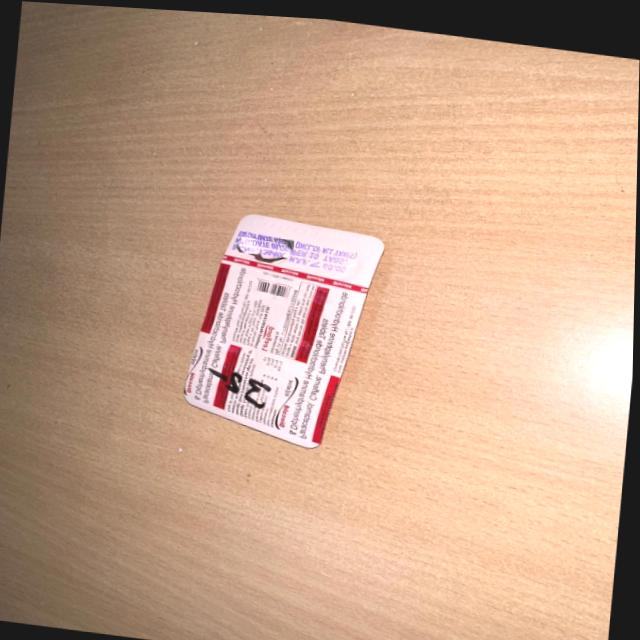medicine: (173, 207, 390, 449)
